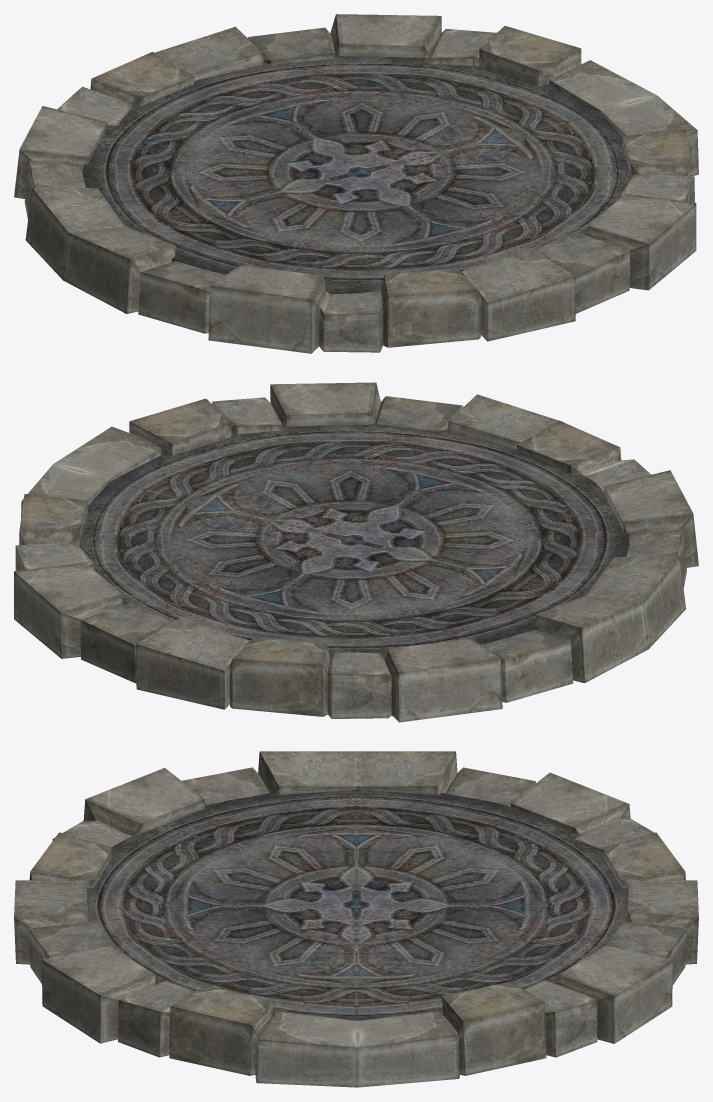
Rendered from bg_lut_lucastle_manhole01a_sm_msj.FBX.
The picture shows the model from 3 angles, top to bottom: view 1: azimuth 30°, elevation 25°; view 2: azimuth 150°, elevation 25°; view 3: azimuth 270°, elevation 25°; orthographic projection.
Parts seen in each view (by area): view 1: bg_lut_lucastle_manhole01a_sm_msj; view 2: bg_lut_lucastle_manhole01a_sm_msj; view 3: bg_lut_lucastle_manhole01a_sm_msj.
Part boxes in pixels (x1=…): bg_lut_lucastle_manhole01a_sm_msj: x1=14, y1=14, x2=698, y2=353; bg_lut_lucastle_manhole01a_sm_msj: x1=14, y1=382, x2=698, y2=722; bg_lut_lucastle_manhole01a_sm_msj: x1=14, y1=751, x2=698, y2=1087.
Size of the model in its own units: 153 by 13.8 by 152.
